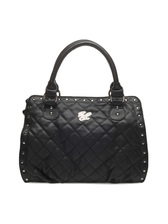bag: (17, 39, 152, 188)
